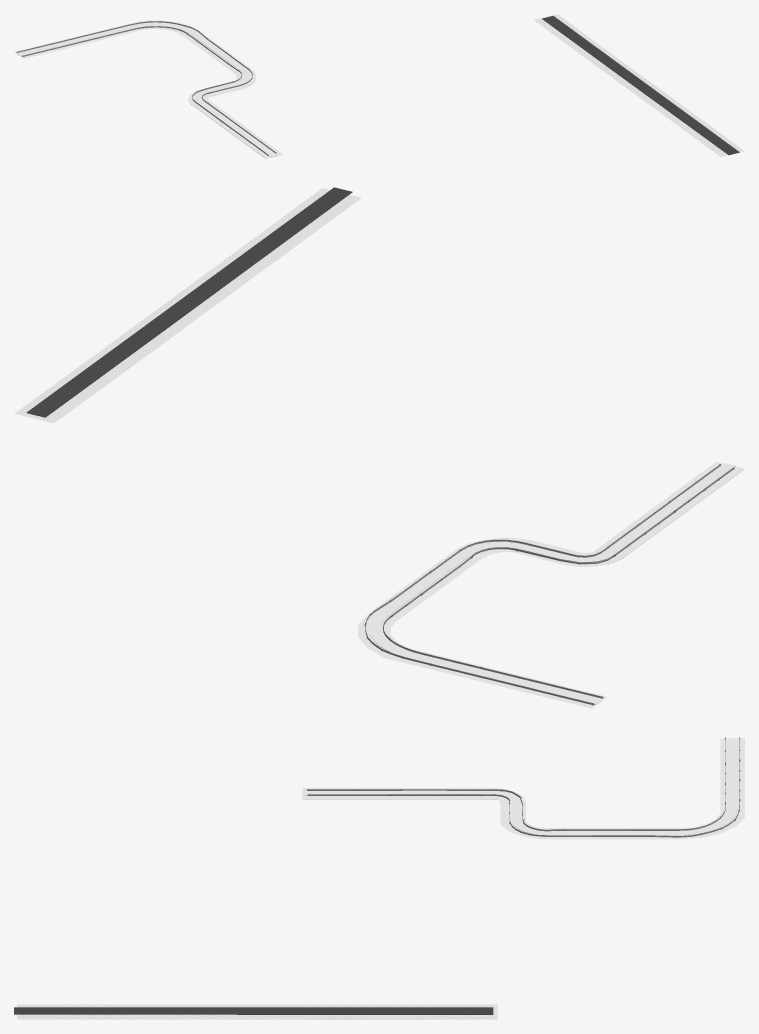
The model's file is level 2 road path.fbx.
3 renders of one model, top to bottom at view 1: azimuth 30°, elevation 25°; view 2: azimuth 150°, elevation 25°; view 3: azimuth 270°, elevation 25°, orthographic. The views are drawn at different scales.
Parts seen in each view (by area): view 1: Cube, base, road; view 2: Cube, base, road; view 3: Cube, base, road.
Part boxes in pixels (bbox=[...]): Cube: bbox=[14, 20, 282, 158]; base: bbox=[534, 14, 744, 156]; road: bbox=[542, 15, 739, 155]; Cube: bbox=[358, 461, 744, 708]; base: bbox=[14, 188, 361, 423]; road: bbox=[26, 187, 352, 417]; Cube: bbox=[302, 737, 744, 839]; base: bbox=[17, 1004, 497, 1019]; road: bbox=[14, 1007, 493, 1014].
Bounding box in the file's own units: 70099 × 379 × 77343.
5 materials, 2 textured.
